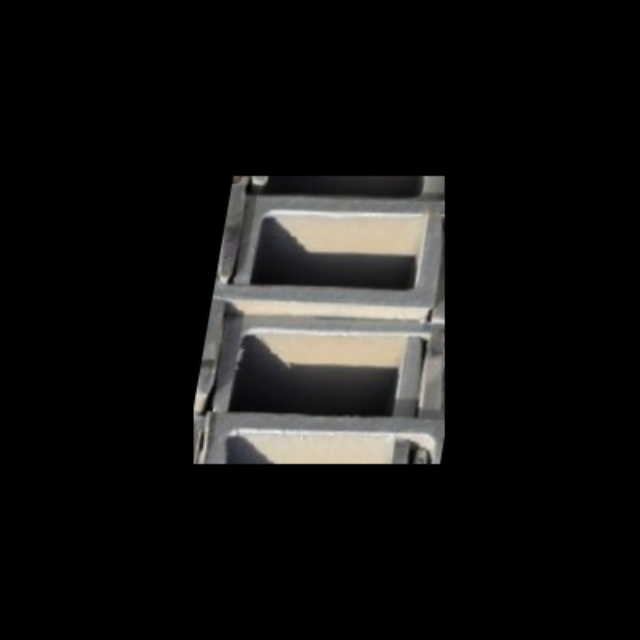Shveller: (219, 319, 445, 413), (194, 337, 418, 427), (213, 217, 440, 300), (238, 202, 445, 289), (204, 417, 445, 464), (194, 437, 408, 464), (231, 176, 439, 195)
